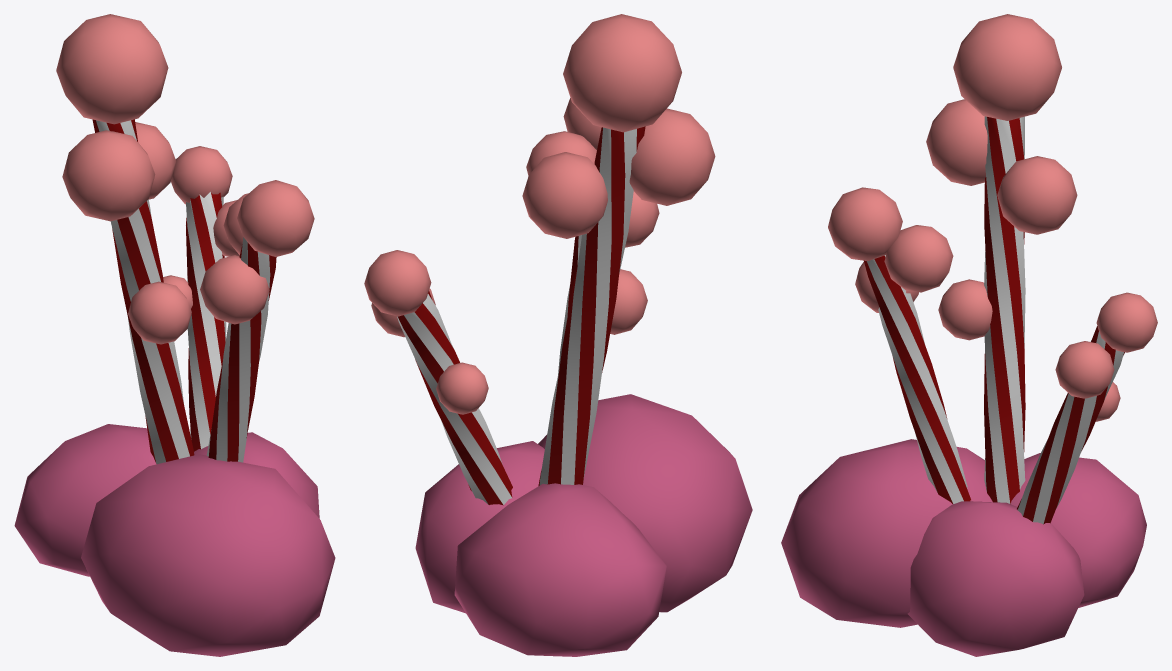
File: weirdPirouettePlant.fbx
The picture shows the model from 3 angles, left to right: view 1: azimuth 30°, elevation 25°; view 2: azimuth 150°, elevation 25°; view 3: azimuth 270°, elevation 25°; orthographic projection. The views are drawn at different scales.
Parts seen in each view (by area): view 1: pCylinder10; view 2: pCylinder10; view 3: pCylinder10.
Boxes of the visible parts, box(x1,y1,x2,y2) form: pCylinder10: box(14, 14, 335, 656); pCylinder10: box(364, 14, 752, 656); pCylinder10: box(781, 14, 1157, 656).
Size of the model in its own units: 2.47 by 5.4 by 3.27.
